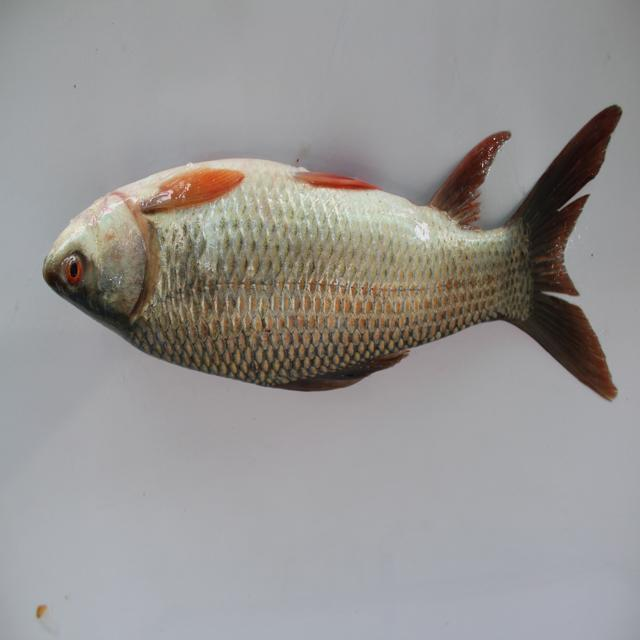Grass Carp: (47, 135, 613, 413)
